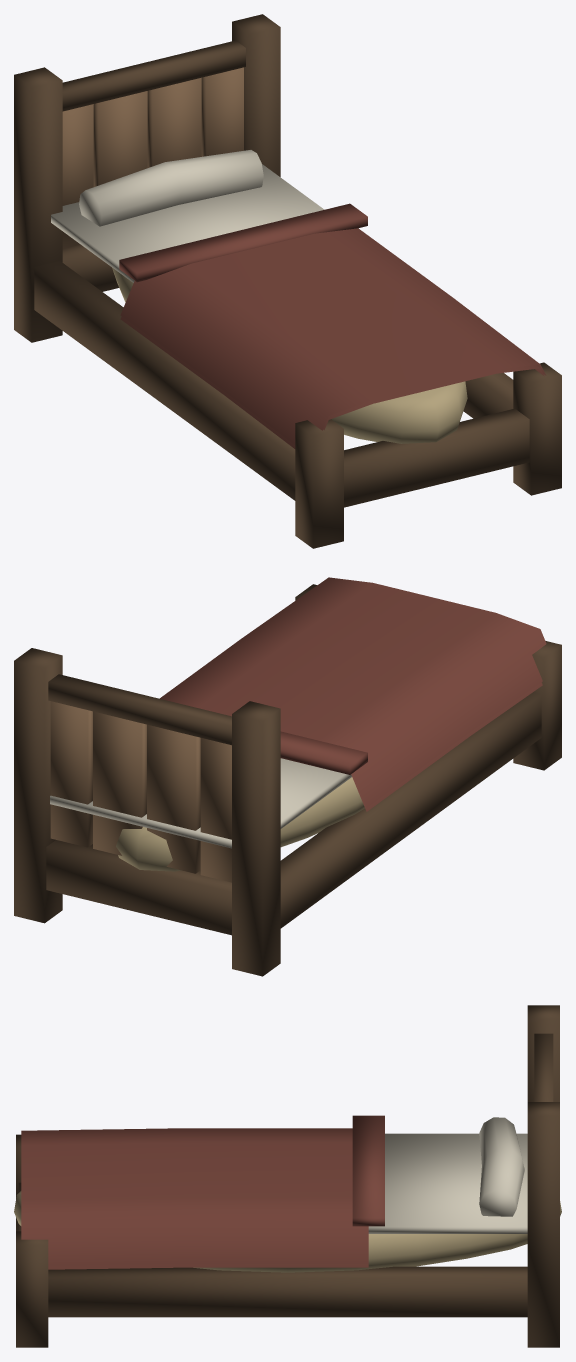
Rendered from mueble-cama.glb.
The picture shows the model from 3 angles, top to bottom: view 1: azimuth 30°, elevation 25°; view 2: azimuth 150°, elevation 25°; view 3: azimuth 270°, elevation 25°; orthographic projection. The views are drawn at different scales.
Parts seen in each view (by area): view 1: Mueble_cama; view 2: Mueble_cama; view 3: Mueble_cama.
Part boxes in pixels (x1=…): Mueble_cama: x1=14, y1=14, x2=561, y2=548; Mueble_cama: x1=14, y1=577, x2=561, y2=976; Mueble_cama: x1=14, y1=1005, x2=561, y2=1347.
Size of the model in its own units: 0.97 by 0.95 by 2.04.
